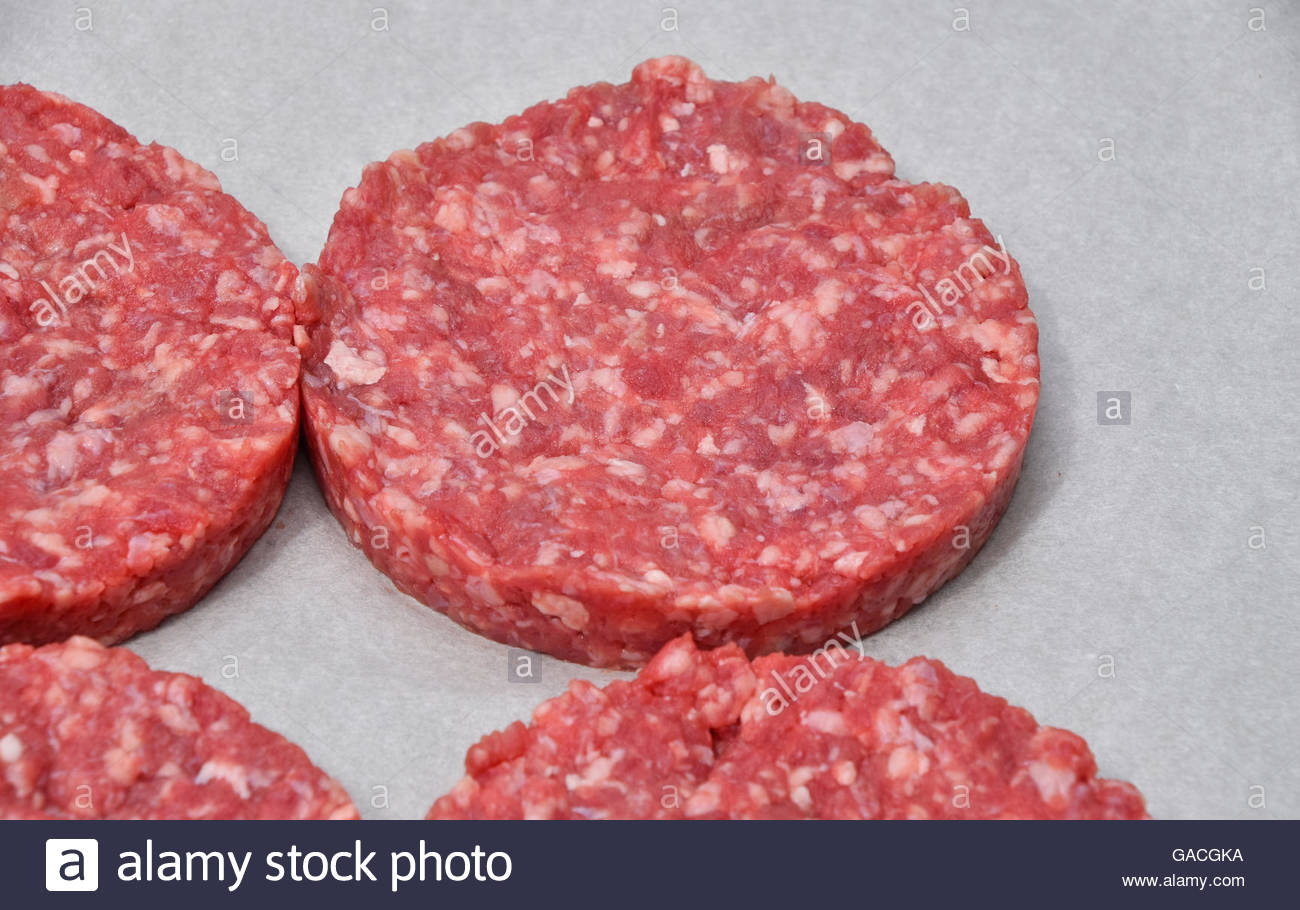ground_beef: (298, 42, 1059, 662), (1, 75, 332, 650), (396, 590, 1176, 818)
